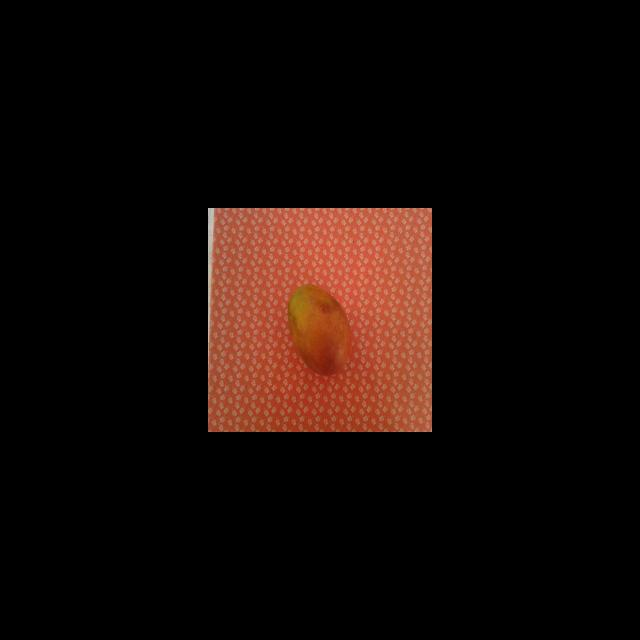Mango: (287, 283, 352, 376)
